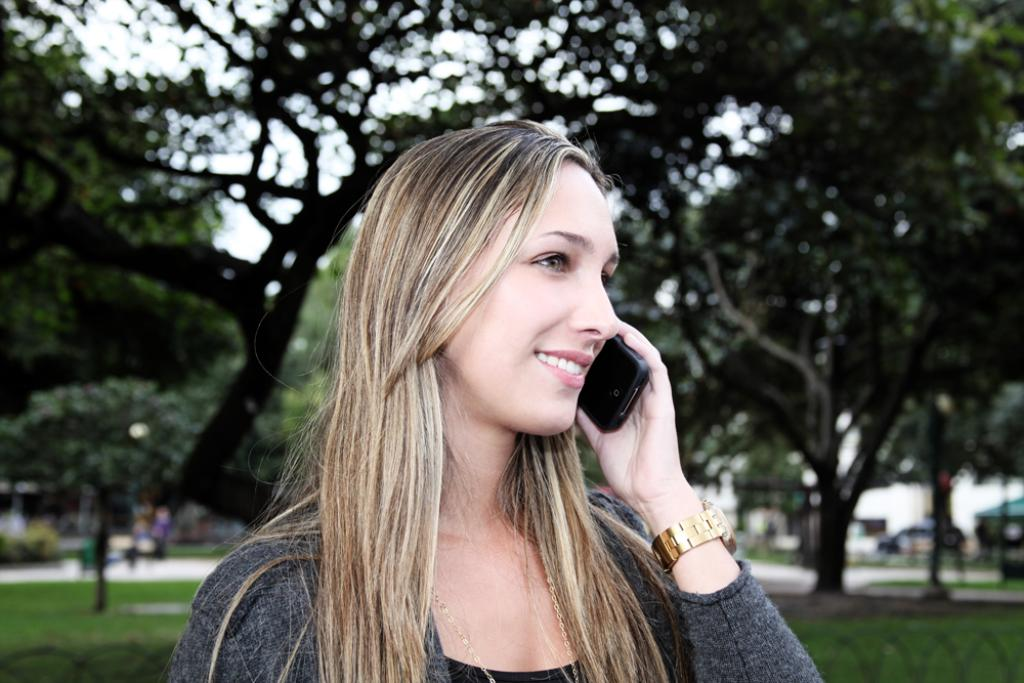Mobile-phone: (573, 334, 649, 436)
